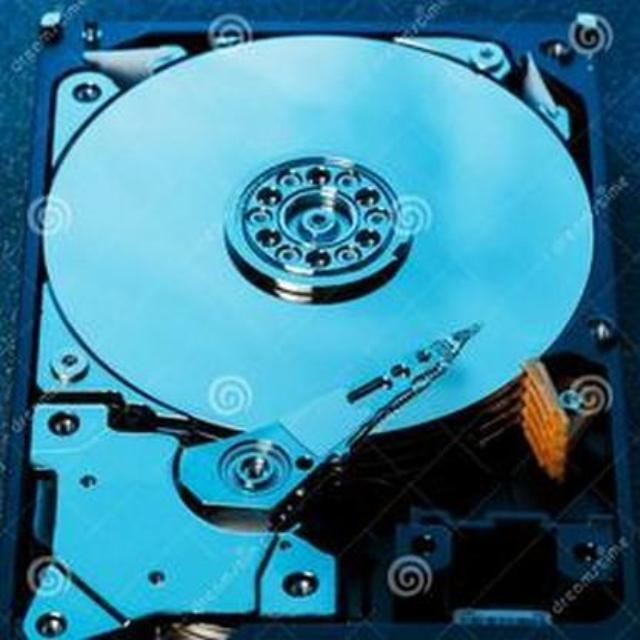DISK: (29, 12, 638, 640)
